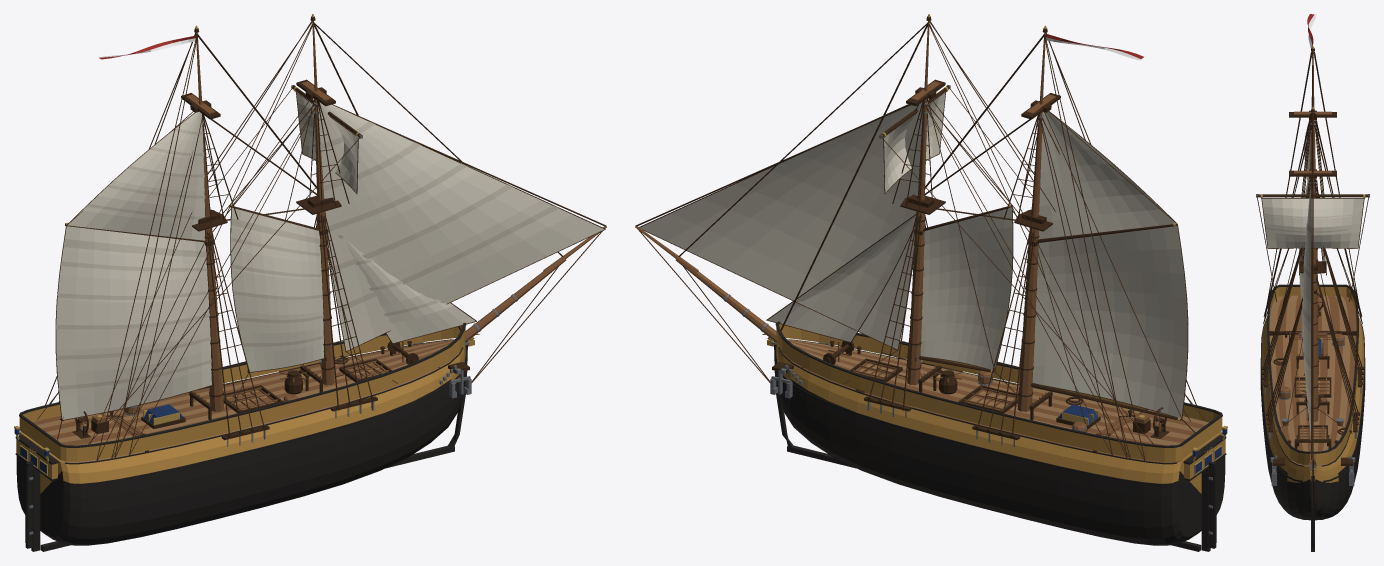
File: SN_Schooner_Fame.glb
3 views of the same model, side by side, from view 1: azimuth 30°, elevation 25°; view 2: azimuth 150°, elevation 25°; view 3: azimuth 270°, elevation 25° (orthographic). The views are drawn at different scales.
Visible parts, largest first — view 1: SN_SF_Headsails, SN_SF_Sails_Main, SN_SF_Hull, SN_SF_Sails_Fore, SN_SF_Rigging_Standing, SN_SF_Bulwark, SN_SF_Deck, SN_SF_Mast_Fore, SN_SF_Mast_Main, SN_SF_Keel_Stem_Rudder, SN_SF_Wales, SN_SF_Rigging_Running (+6 smaller); view 2: SN_SF_Headsails, SN_SF_Sails_Main, SN_SF_Hull, SN_SF_Sails_Fore, SN_SF_Rigging_Standing, SN_SF_Bulwark, SN_SF_Deck, SN_SF_Mast_Main, SN_SF_Mast_Fore, SN_SF_Keel_Stem_Rudder, SN_SF_Rigging_Running, SN_SF_Wales (+7 smaller); view 3: SN_SF_Rigging_Standing, SN_SF_Deck, SN_SF_Hull, SN_SF_Sails_Fore, SN_SF_Bulwark, SN_SF_Quarterdeck, SN_SF_Mast_Fore, SN_SF_Headsails, SN_SF_Mast_Main, SN_SF_Wales, SN_SF_Hatches, SN_SF_Rigging_Running (+10 smaller).
Boxes of the visible parts, box(x1,y1,x2,y2) form: SN_SF_Headsails: box(318, 102, 605, 351); SN_SF_Sails_Main: box(55, 111, 211, 420); SN_SF_Hull: box(16, 342, 465, 545); SN_SF_Sails_Fore: box(230, 92, 358, 372); SN_SF_Rigging_Standing: box(45, 21, 606, 461); SN_SF_Bulwark: box(19, 323, 466, 461); SN_SF_Deck: box(20, 339, 463, 462); SN_SF_Mast_Fore: box(296, 14, 341, 385); SN_SF_Mast_Main: box(181, 25, 227, 411); SN_SF_Keel_Stem_Rudder: box(25, 341, 467, 551); SN_SF_Wales: box(64, 339, 463, 485); SN_SF_Rigging_Running: box(37, 85, 397, 444); SN_SF_Headsails: box(639, 102, 923, 350); SN_SF_Sails_Main: box(1032, 111, 1188, 418); SN_SF_Hull: box(776, 342, 1225, 545); SN_SF_Sails_Fore: box(883, 92, 1013, 371); SN_SF_Rigging_Standing: box(635, 21, 1196, 461); SN_SF_Bulwark: box(775, 321, 1222, 461); SN_SF_Deck: box(778, 339, 1221, 462); SN_SF_Mast_Main: box(1014, 25, 1060, 411); SN_SF_Mast_Fore: box(900, 14, 945, 385); SN_SF_Keel_Stem_Rudder: box(774, 341, 1216, 551); SN_SF_Rigging_Running: box(844, 85, 1204, 444); SN_SF_Wales: box(778, 339, 1177, 485); SN_SF_Rigging_Standing: box(1262, 52, 1363, 508); SN_SF_Deck: box(1269, 330, 1356, 465); SN_SF_Hull: box(1260, 316, 1365, 520); SN_SF_Sails_Fore: box(1261, 198, 1364, 362); SN_SF_Bulwark: box(1267, 284, 1358, 464); SN_SF_Quarterdeck: box(1269, 295, 1356, 338); SN_SF_Mast_Fore: box(1289, 106, 1336, 421); SN_SF_Headsails: box(1302, 178, 1311, 459); SN_SF_Mast_Main: box(1289, 46, 1336, 375); SN_SF_Wales: box(1261, 320, 1364, 482); SN_SF_Hatches: box(1294, 377, 1331, 438); SN_SF_Rigging_Running: box(1256, 194, 1369, 433).
Bounding box in the file's own units: 33.44 × 26.82 × 6.88.
